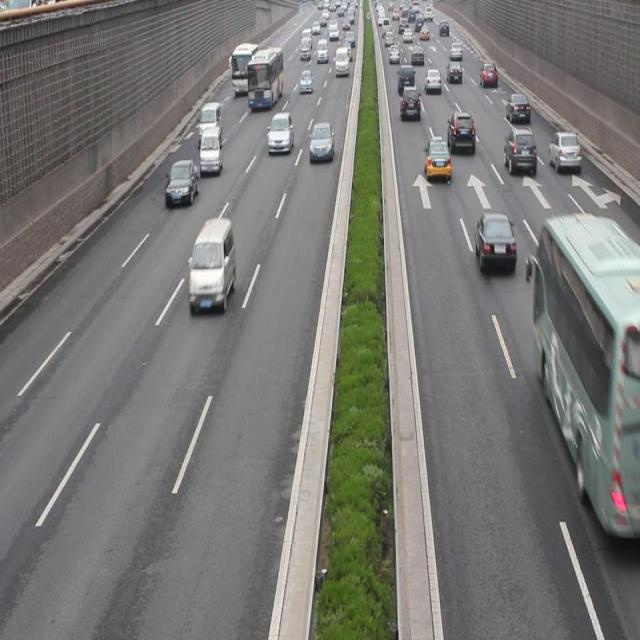car: (474, 213, 514, 274), (163, 160, 200, 204), (504, 129, 536, 176), (548, 130, 582, 174), (446, 112, 475, 155), (424, 137, 449, 182), (267, 112, 292, 156), (308, 121, 334, 163), (504, 94, 529, 122)
truck: (188, 219, 234, 314), (200, 128, 223, 178), (199, 103, 221, 147)
van: (536, 220, 640, 540)
